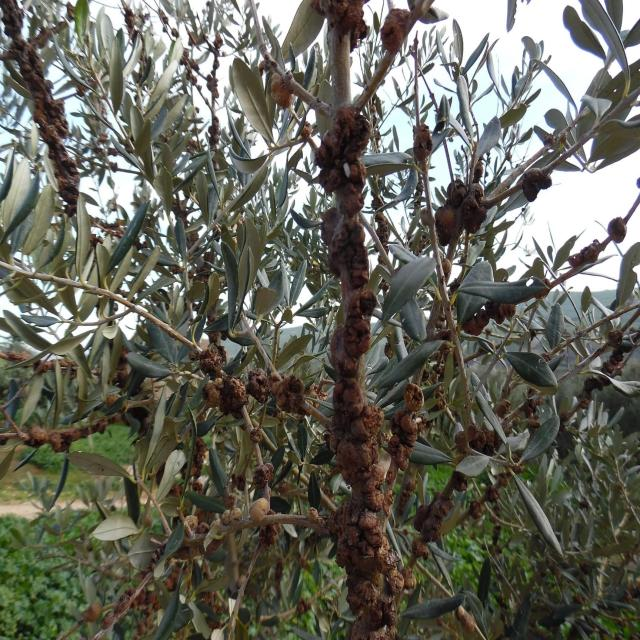Tuberculosis: (327, 498, 403, 640), (321, 208, 376, 381), (331, 380, 384, 511), (316, 105, 370, 219), (21, 414, 121, 453), (435, 179, 487, 246), (311, 0, 369, 52), (415, 488, 453, 543), (96, 588, 137, 638), (388, 409, 418, 471), (461, 301, 516, 334), (203, 377, 247, 416), (270, 374, 306, 416), (269, 61, 299, 110), (381, 8, 410, 54), (468, 421, 501, 456), (601, 331, 625, 376), (521, 167, 552, 201), (568, 239, 604, 267), (246, 368, 270, 403), (199, 345, 225, 377), (413, 123, 432, 162), (257, 523, 281, 552), (249, 498, 272, 525), (253, 462, 274, 491), (184, 515, 209, 539), (206, 58, 219, 103), (404, 383, 424, 412), (206, 116, 221, 151), (607, 217, 626, 244), (449, 470, 468, 492), (221, 508, 243, 525), (307, 507, 322, 524), (250, 426, 264, 443)
